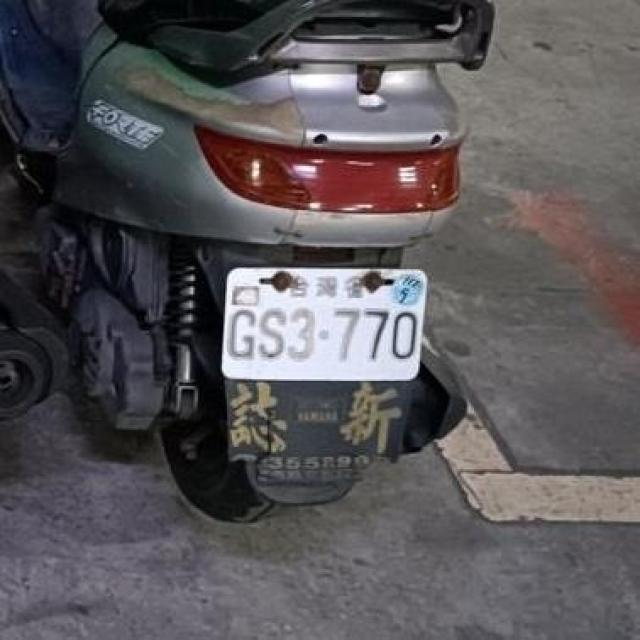W: (212, 252, 428, 391)
